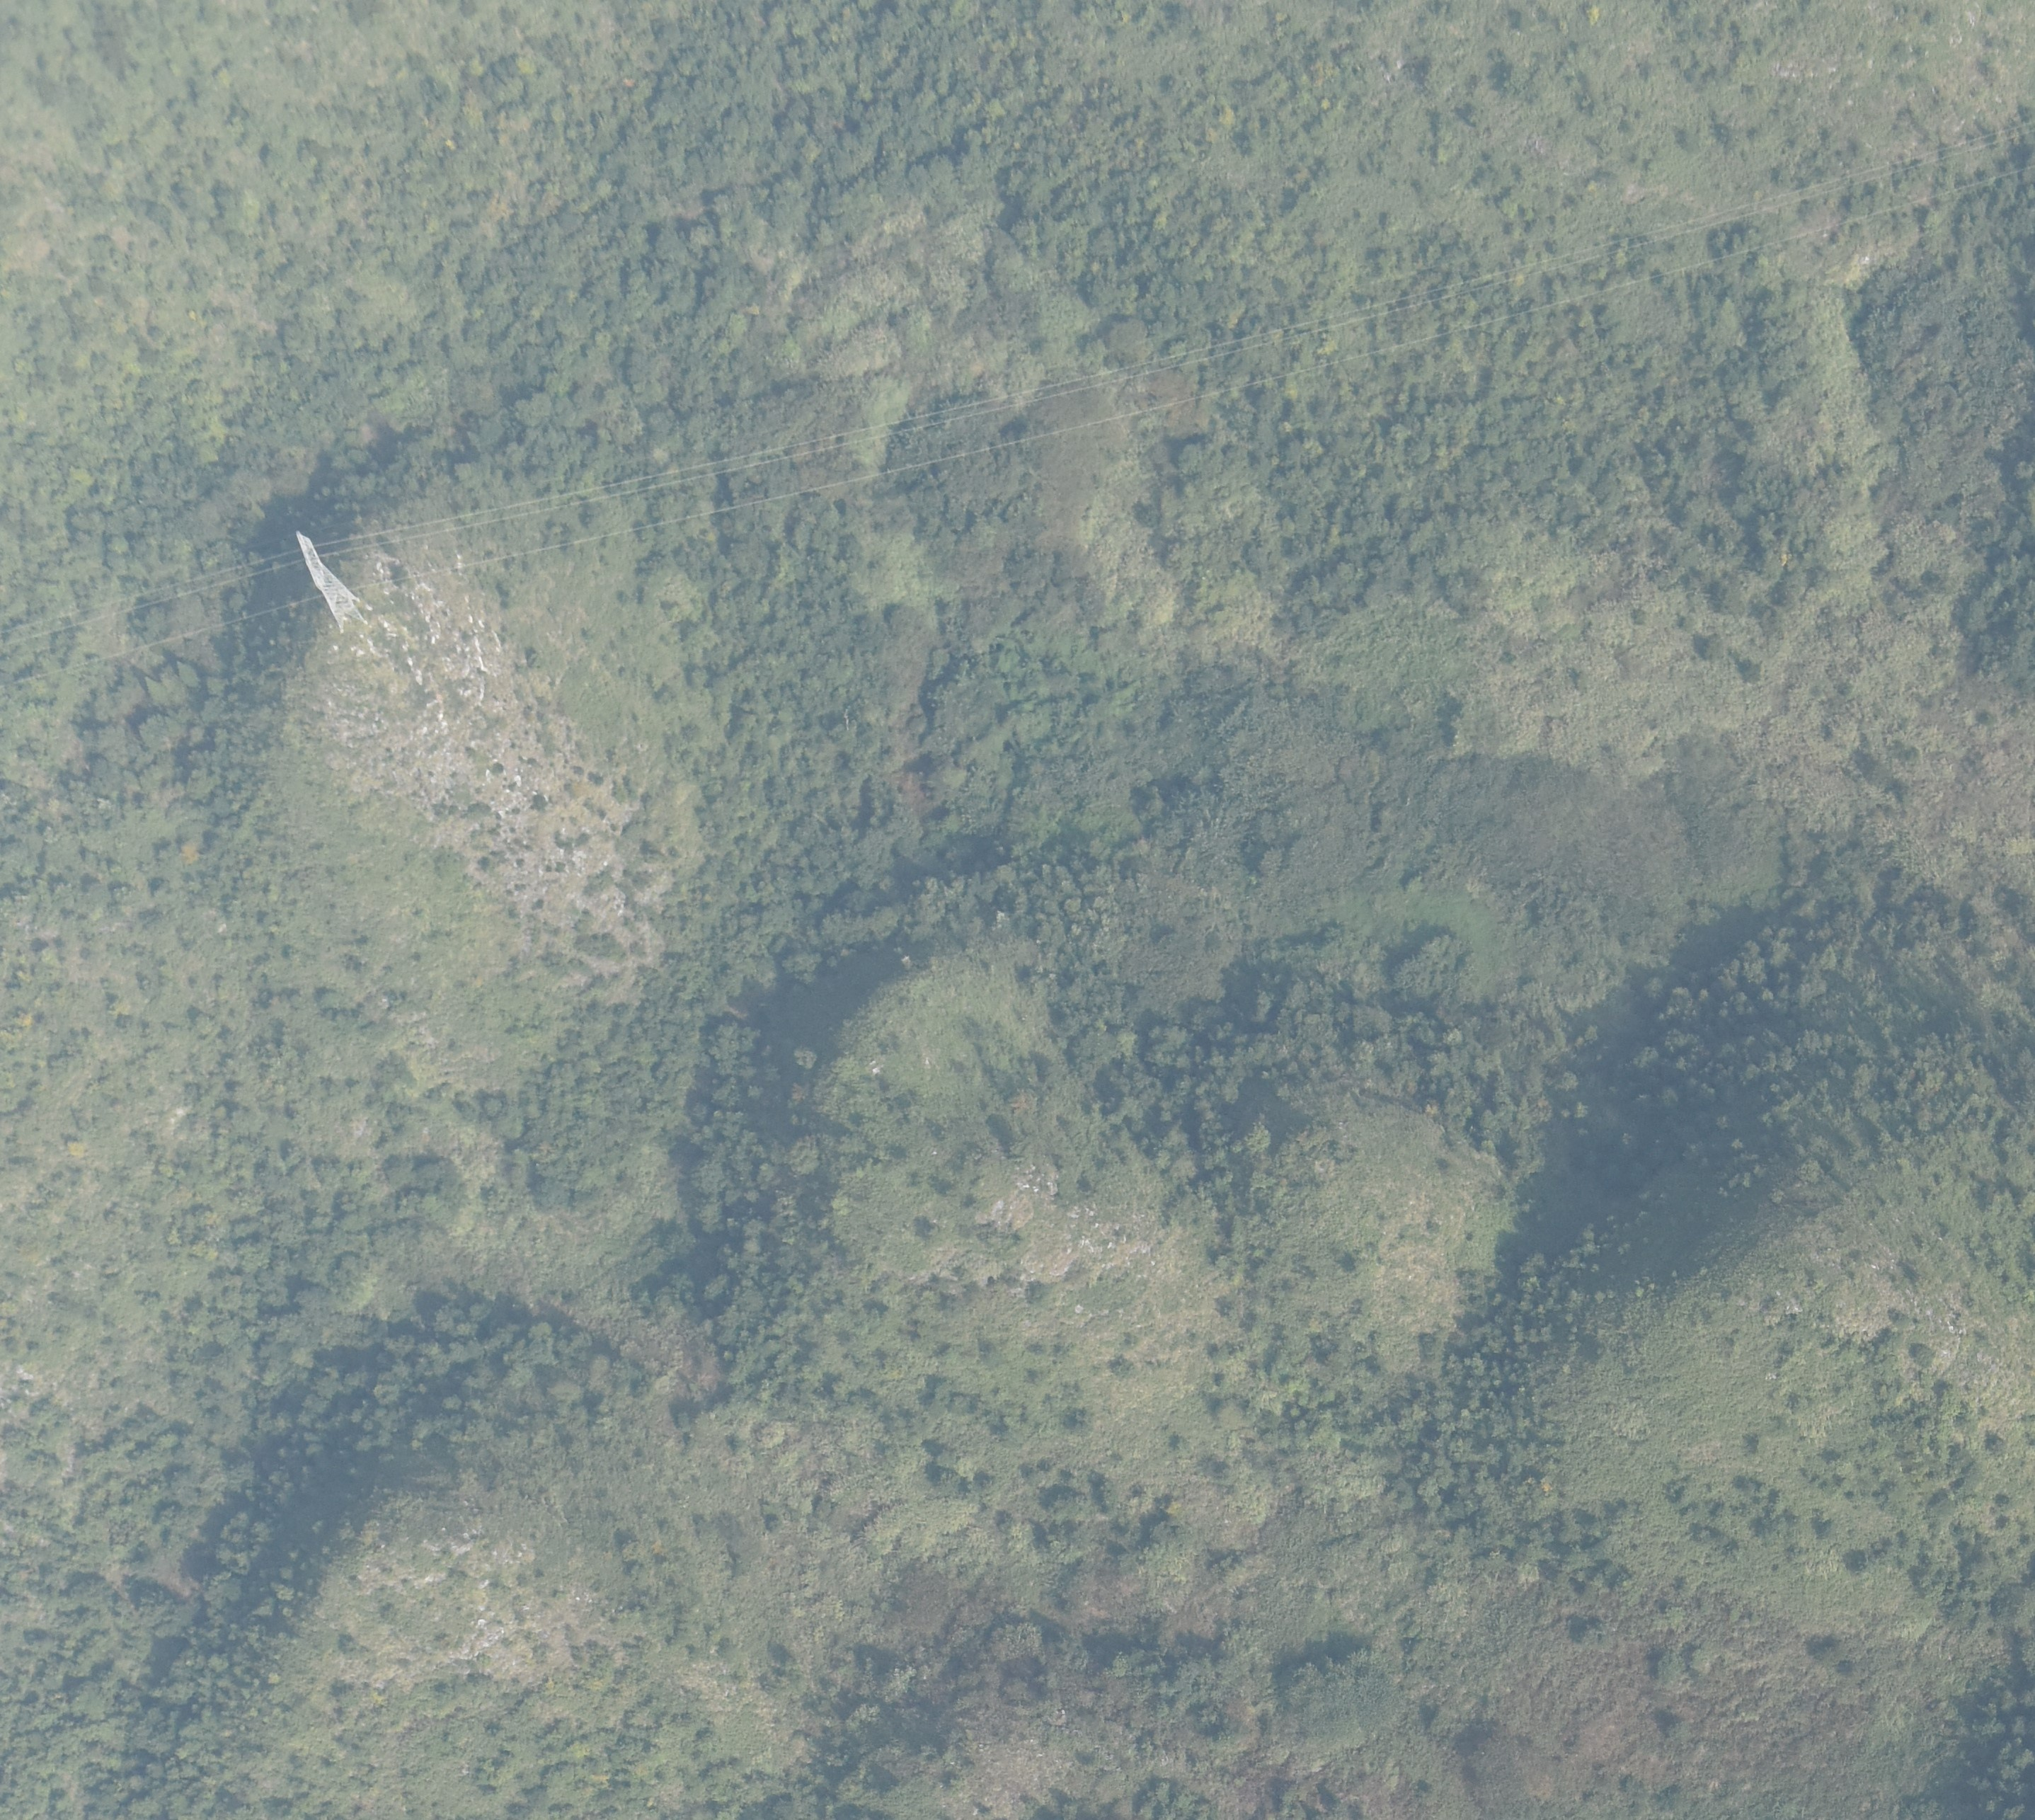cable-tower: (295, 531, 369, 632)
